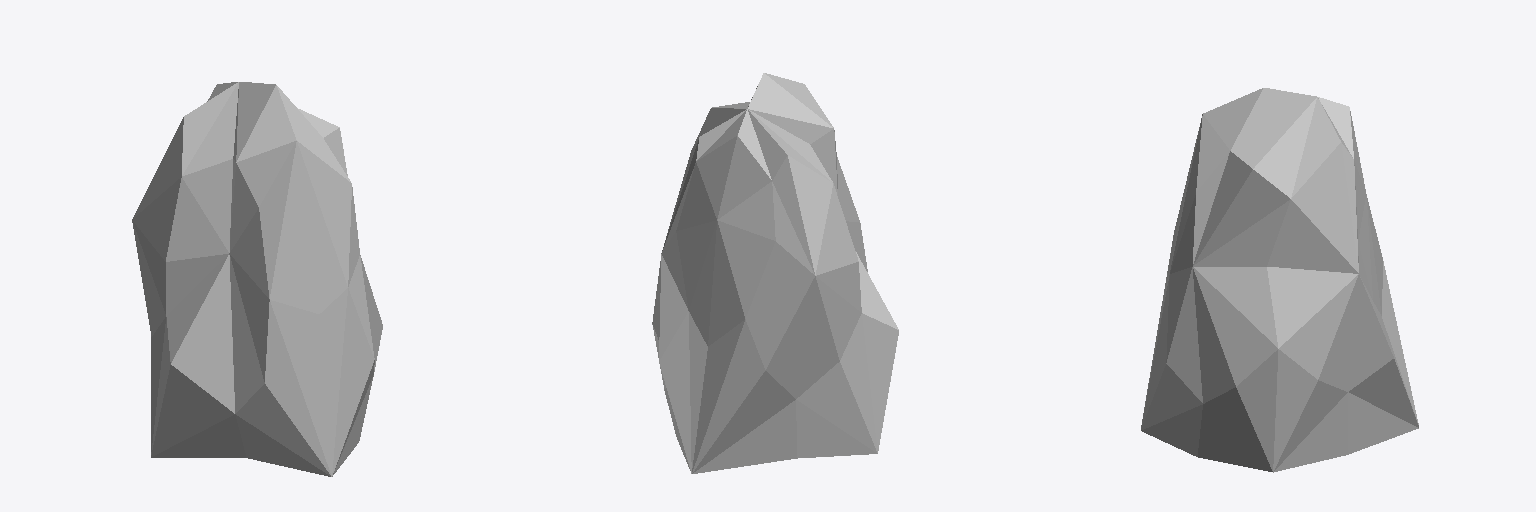
Rendered from simple-rock.obj.
3 views of the same model, side by side, from view 1: azimuth 30°, elevation 25°; view 2: azimuth 150°, elevation 25°; view 3: azimuth 270°, elevation 25° (orthographic).
Visible parts, largest first — view 1: Icosahedron; view 2: Icosahedron; view 3: Icosahedron.
Part boxes in pixels (bbox=[...]): Icosahedron: bbox=[132, 82, 382, 476]; Icosahedron: bbox=[652, 73, 898, 473]; Icosahedron: bbox=[1141, 88, 1418, 472].
Bounding box in the file's own units: 0.8454 × 1.3 × 0.9428.